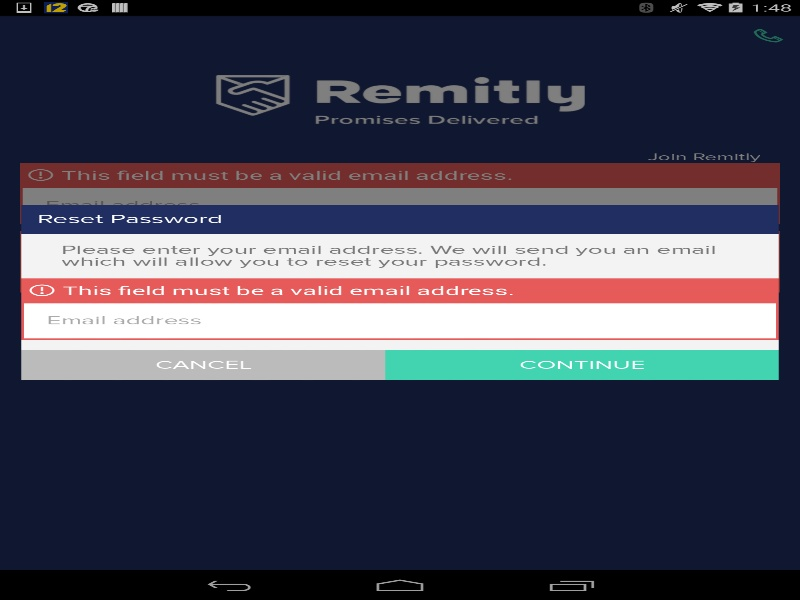Button: (385, 350, 778, 380), (21, 350, 385, 380)
Input: (24, 303, 776, 338)
